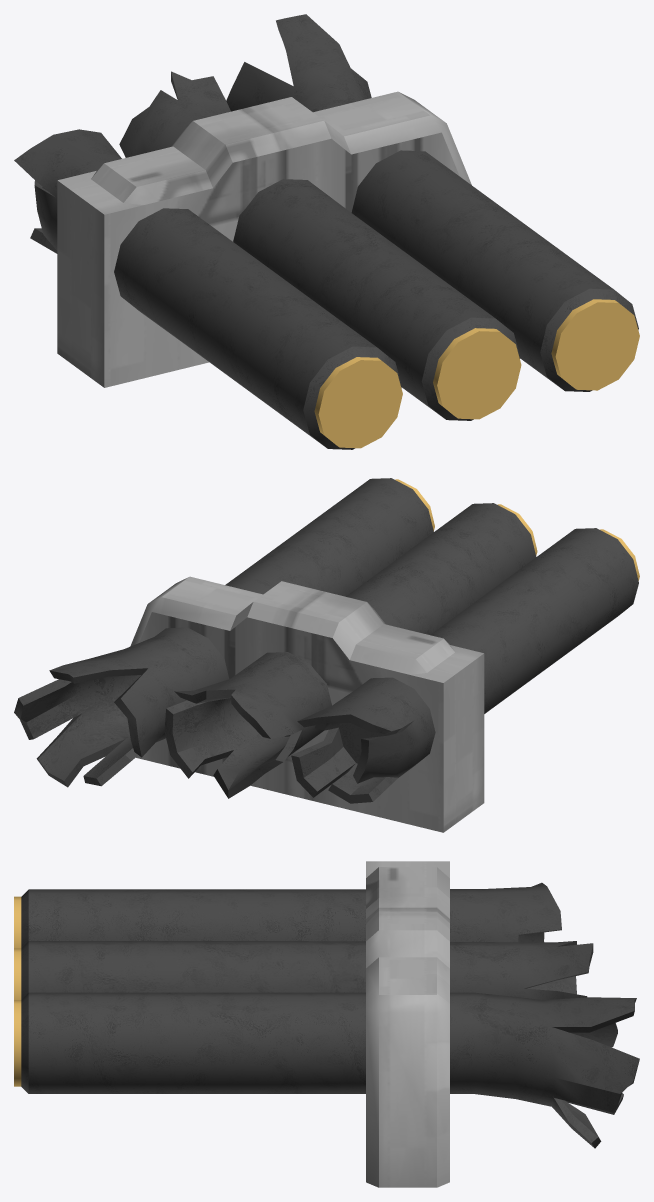
The model's file is 3_pipes_cut_1.fbx.
3 views of the same model, one above another, from view 1: azimuth 30°, elevation 25°; view 2: azimuth 150°, elevation 25°; view 3: azimuth 270°, elevation 25° (orthographic). The views are drawn at different scales.
Visible parts, largest first — view 1: 3_pipes_cut_1; view 2: 3_pipes_cut_1; view 3: 3_pipes_cut_1.
Part boxes in pixels (x1,y1,x2,y2): 3_pipes_cut_1: [14, 14, 639, 449]; 3_pipes_cut_1: [14, 478, 639, 832]; 3_pipes_cut_1: [14, 861, 639, 1187].
Size of the model in its own units: 200 by 100 by 308.
